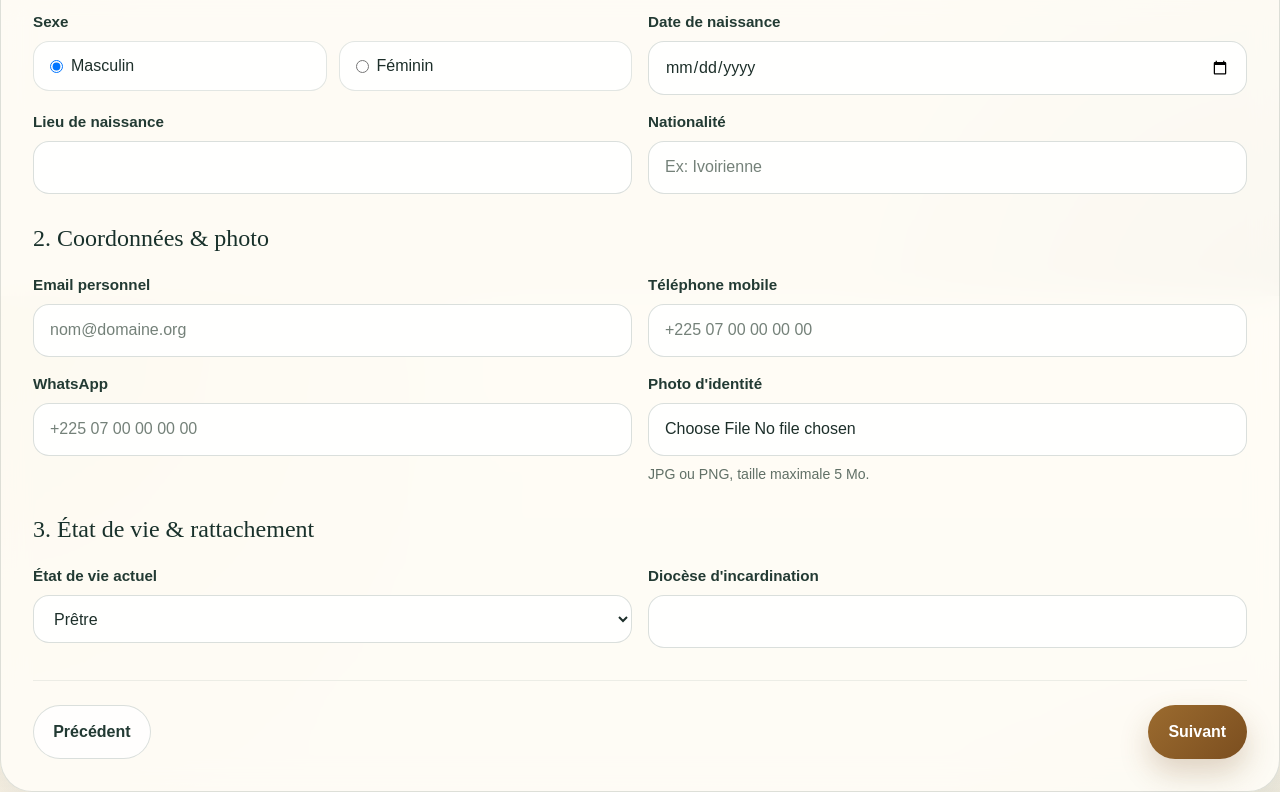
Test case: ApplicationForm › masque le champ d'affiliation pour un laic
The image size is (1280, 792).
(page scrolled)
Check: the field labelled "Diocèse d'incardination" is shown, box x1=648 y1=595 x2=1247 y2=648
Select "Laïc marié" in the dropdown labelled "État de vie actuel": [332, 619] box x1=33 y1=595 x2=632 y2=643
(page scrolled)
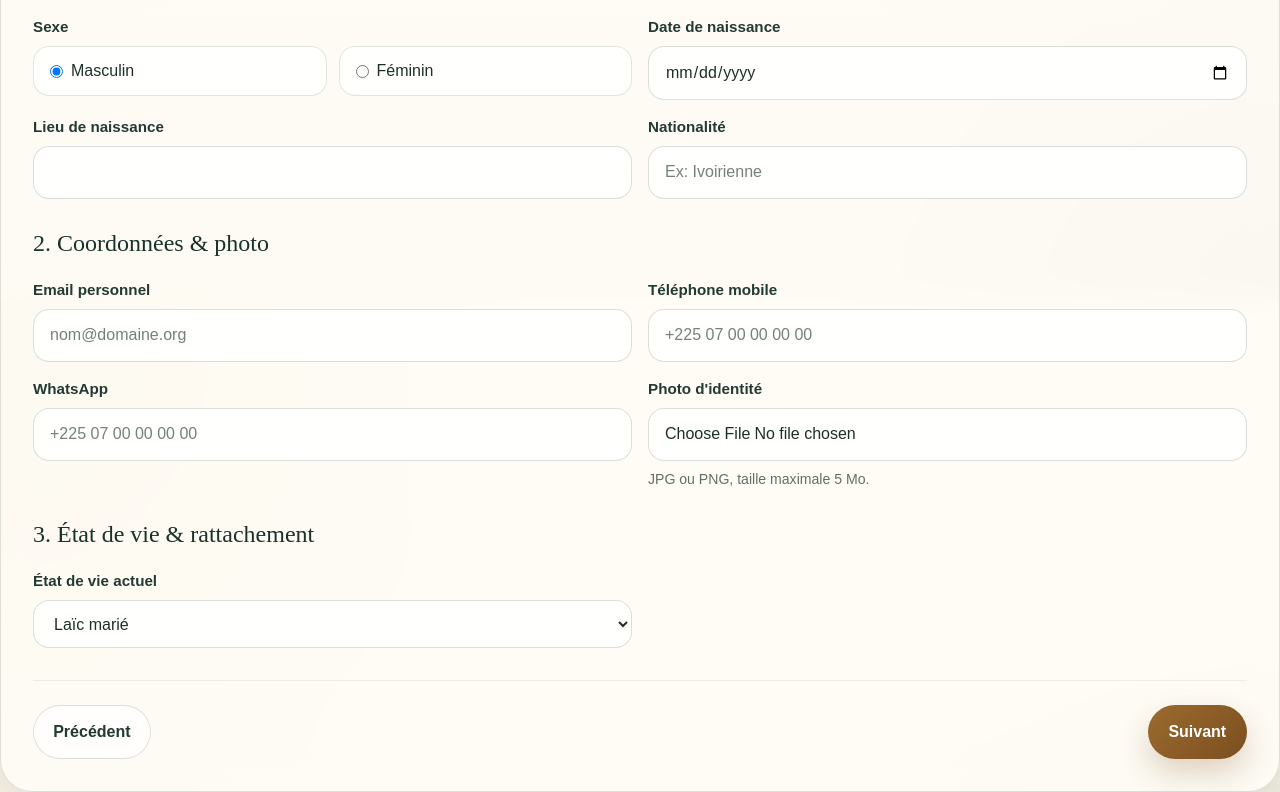
Check: the label labelled "Dioc.se d'incardination" is gone
